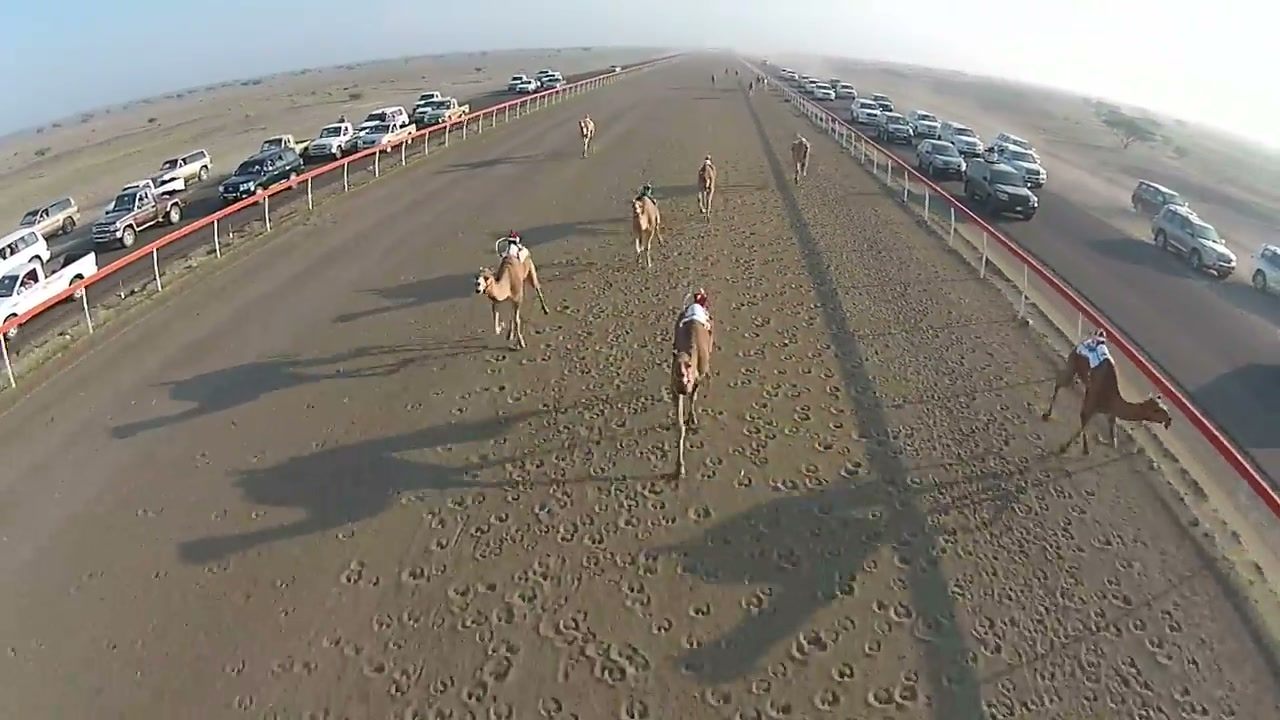animal_footprint: (6, 94, 1276, 719)
